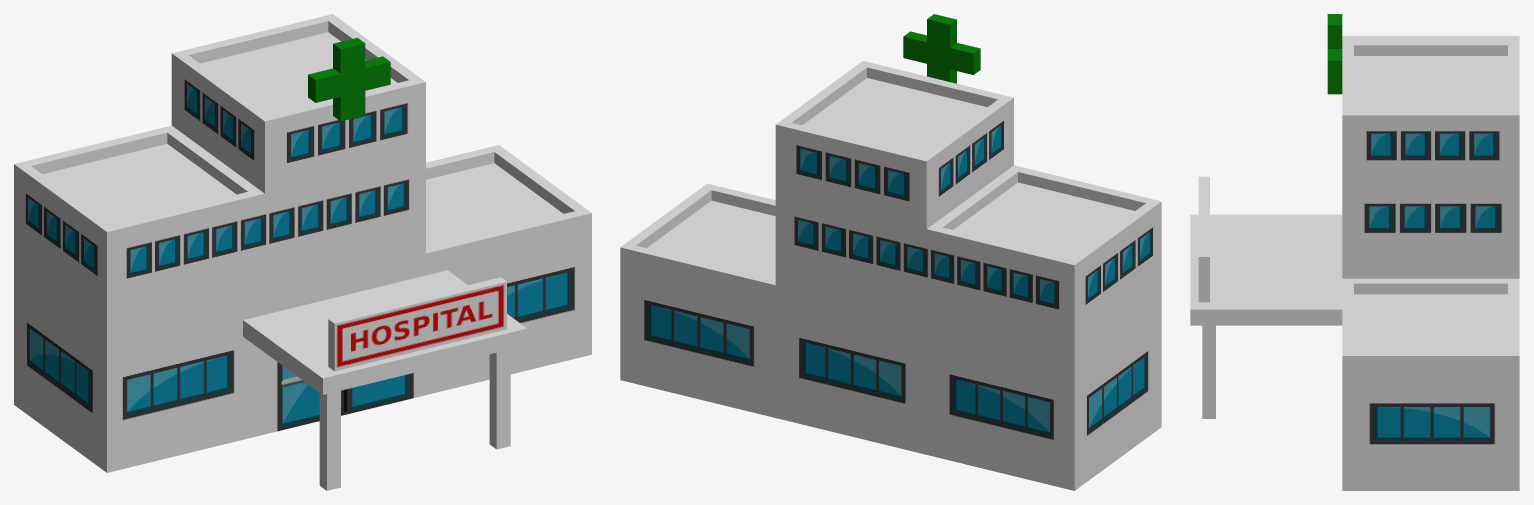
The model's file is hospital.glb.
3 renders of one model, left to right at view 1: azimuth 30°, elevation 25°; view 2: azimuth 150°, elevation 25°; view 3: azimuth 270°, elevation 25°, orthographic. The views are drawn at different scales.
Parts seen in each view (by area): view 1: Cube_0; view 2: Cube_0; view 3: Cube_0.
Boxes of the visible parts, x1,y1,x2,y2 form: Cube_0: [14, 14, 591, 490]; Cube_0: [620, 14, 1161, 490]; Cube_0: [1190, 14, 1519, 490].
Bounding box in the file's own units: 6.02 × 4.44 × 3.71.
1 material, 1 textured.
